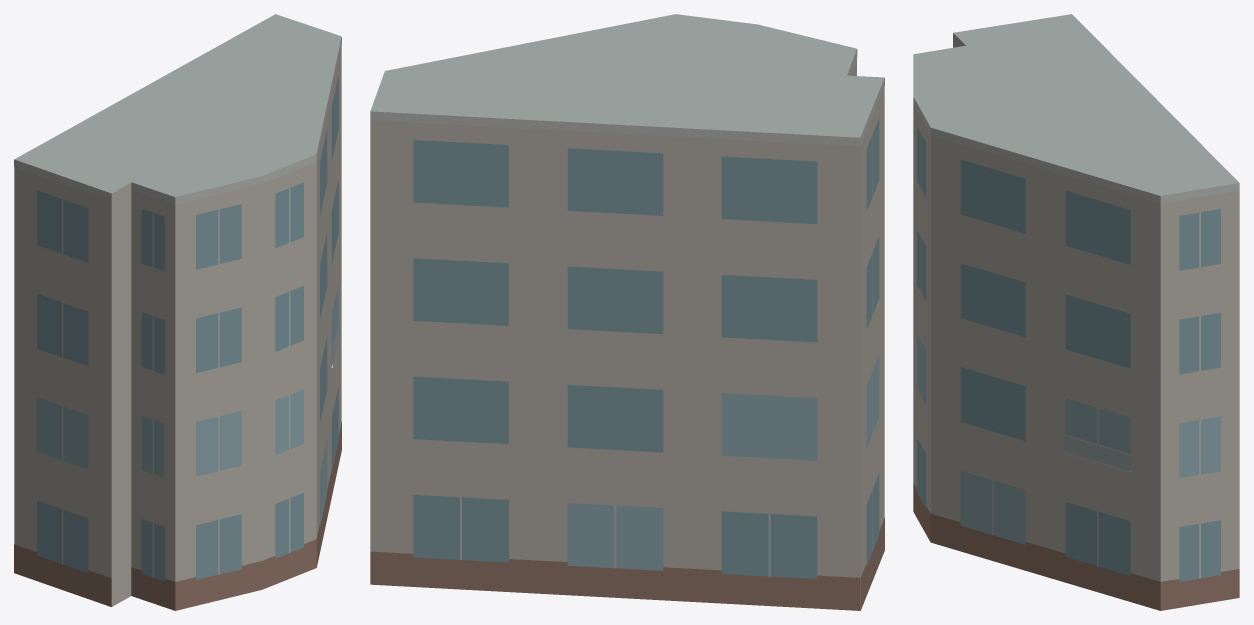
File: survey-upis-32896806.glb
3 views of the same model, side by side, from view 1: azimuth 30°, elevation 25°; view 2: azimuth 150°, elevation 25°; view 3: azimuth 270°, elevation 25° (orthographic). The views are drawn at different scales.
Parts seen in each view (by area): view 1: survey-upis-32896806.tmp; view 2: survey-upis-32896806.tmp; view 3: survey-upis-32896806.tmp.
Boxes of the visible parts, x1,y1,x2,y2 form: survey-upis-32896806.tmp: (14,14,341,610); survey-upis-32896806.tmp: (370,14,884,610); survey-upis-32896806.tmp: (913,14,1239,610).
Bounding box in the file's own units: 12.42 × 13.2 × 9.42.
